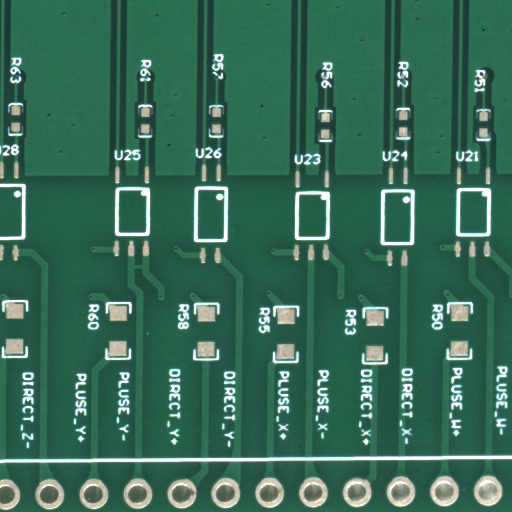Short: (138, 266, 151, 275)
